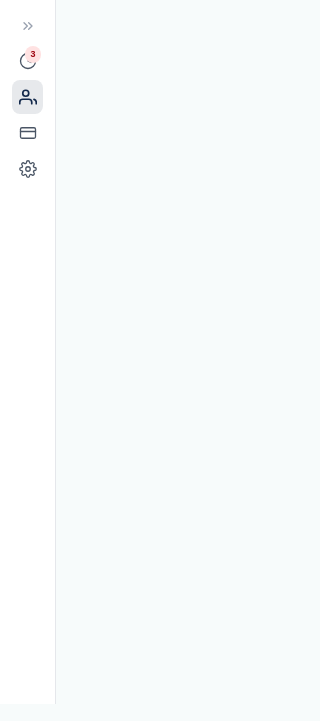
Test: CrmNav — collapsible desktop sidebar › toggling back to expanded restores labels and updates storage
Click the button with test id "crm-nav-collapse-toggle" at (28, 26), box [14,12,42,40]
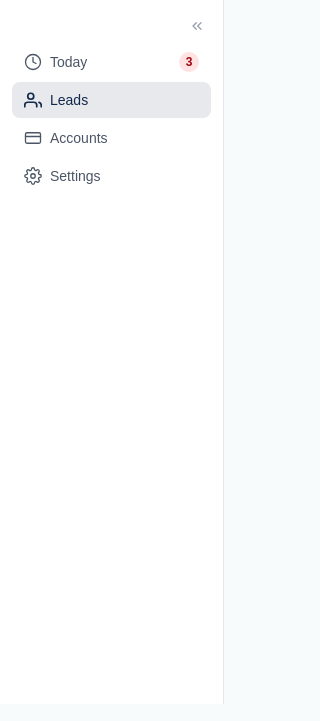
Now the text "Leads" is shown, box [50,90,88,110]
